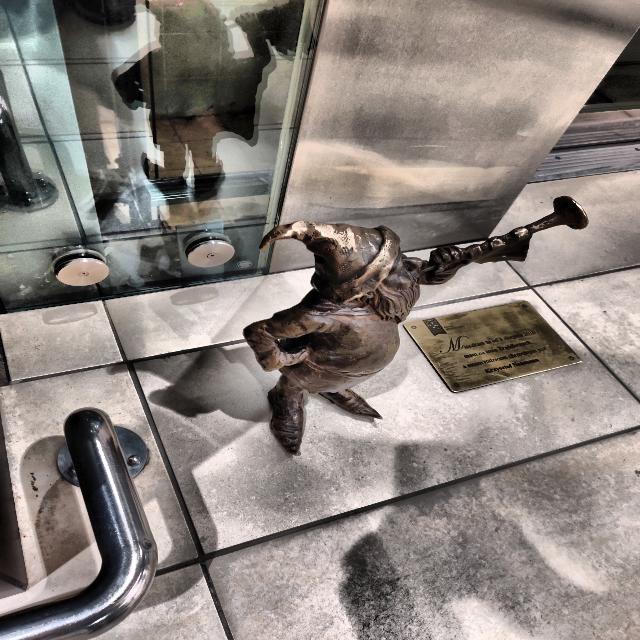Trabibrzuch: (243, 196, 588, 454)
